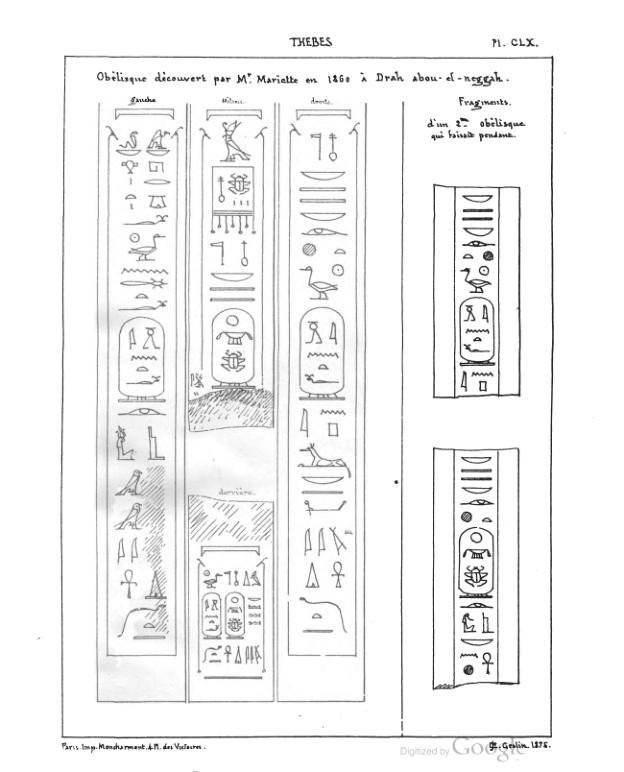circle: (295, 304, 347, 402), (115, 316, 168, 407), (209, 307, 256, 389), (455, 524, 496, 602), (459, 296, 498, 369), (223, 591, 246, 642), (200, 592, 222, 642)
